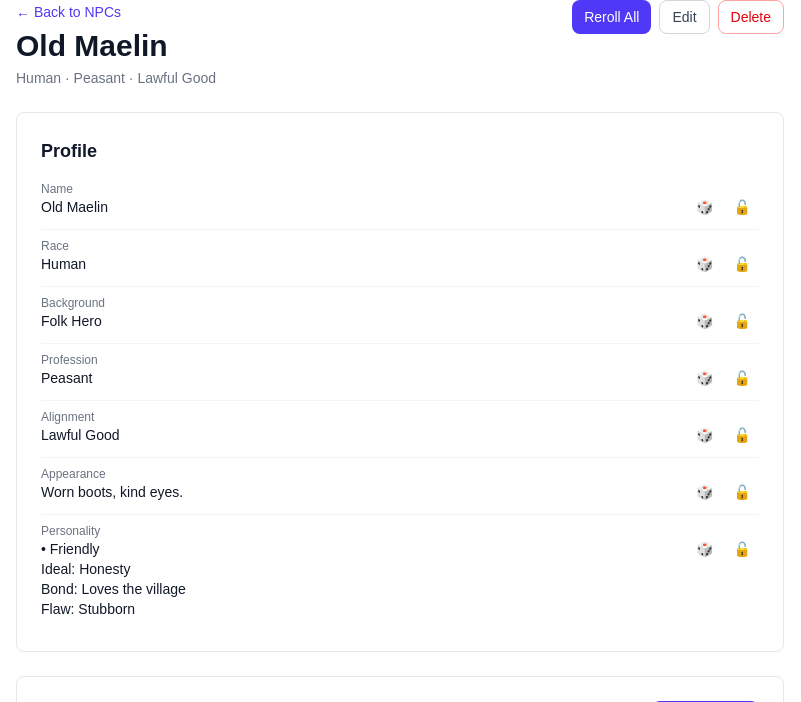
it: NpcDetailPage › keeps the relations listed after a reroll whose response carries no links
What coordinates should you click on to do the following:
click the button named "reroll alignment"
I would click on:
 (705, 435)
Its box is [688,421,722,449].
(page scrolled)
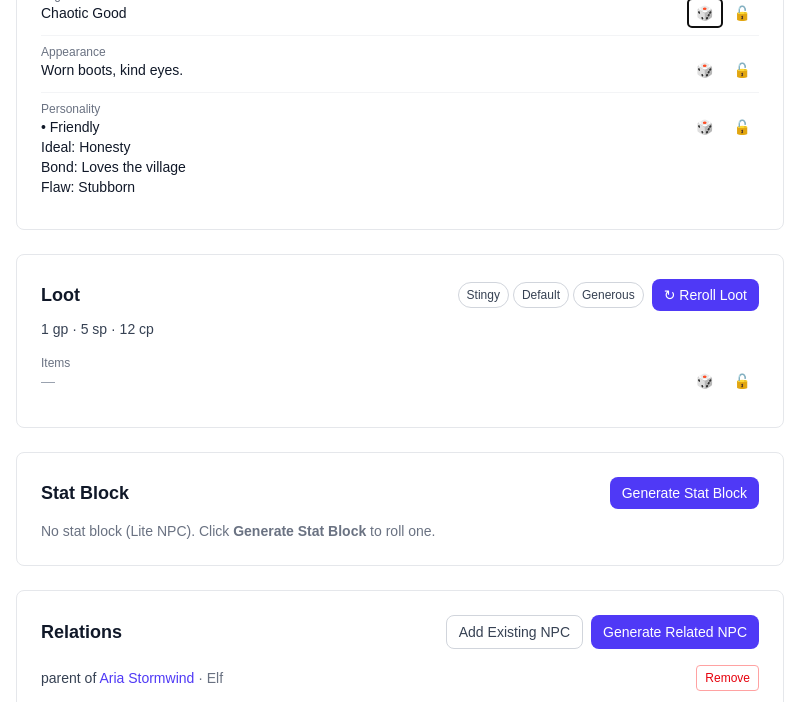
Expected: the link "Aria Stormwind" is shown, [99,670,194,686]
Now the text "Chaotic Good" is shown, box [41,5,127,21]
